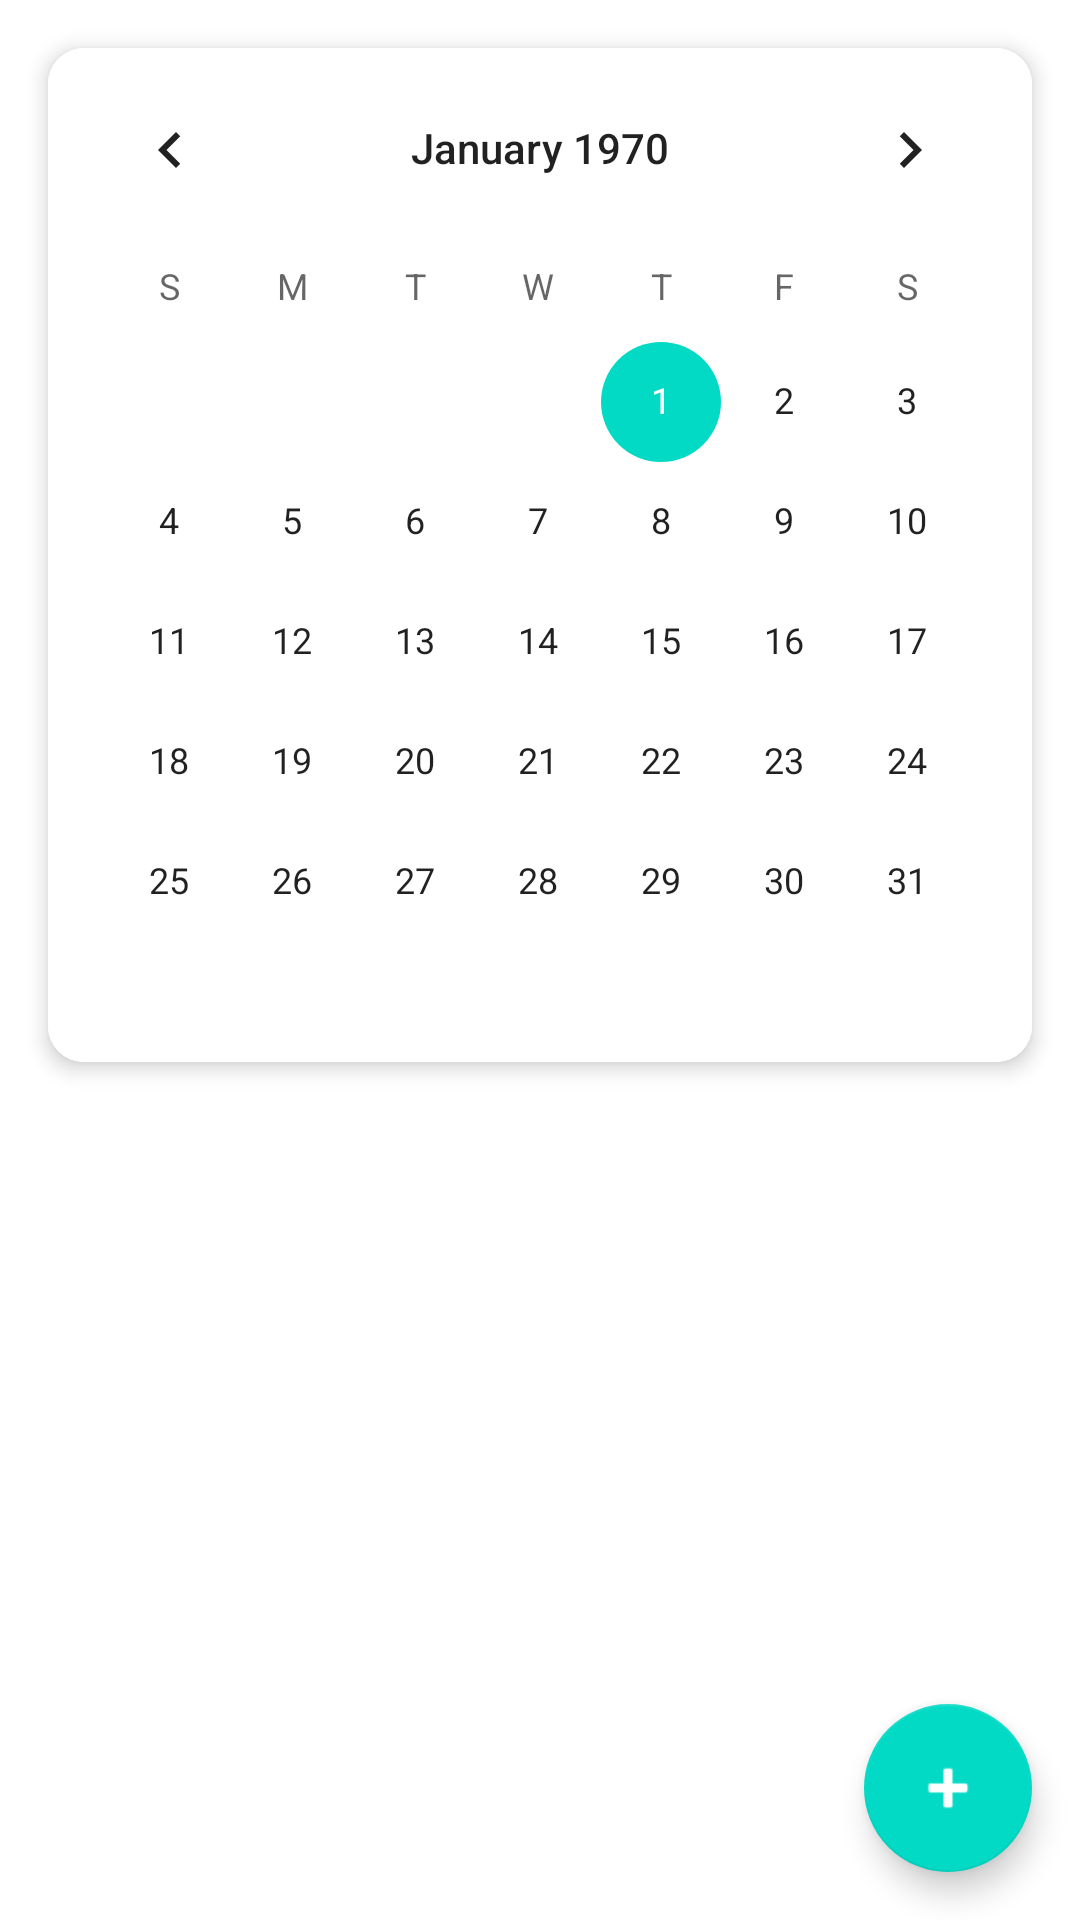

Point at icon controls on the screen. Image size 1080 × 1920, points as (x=x, y=y).
Add new task: (x=948, y=1788)
